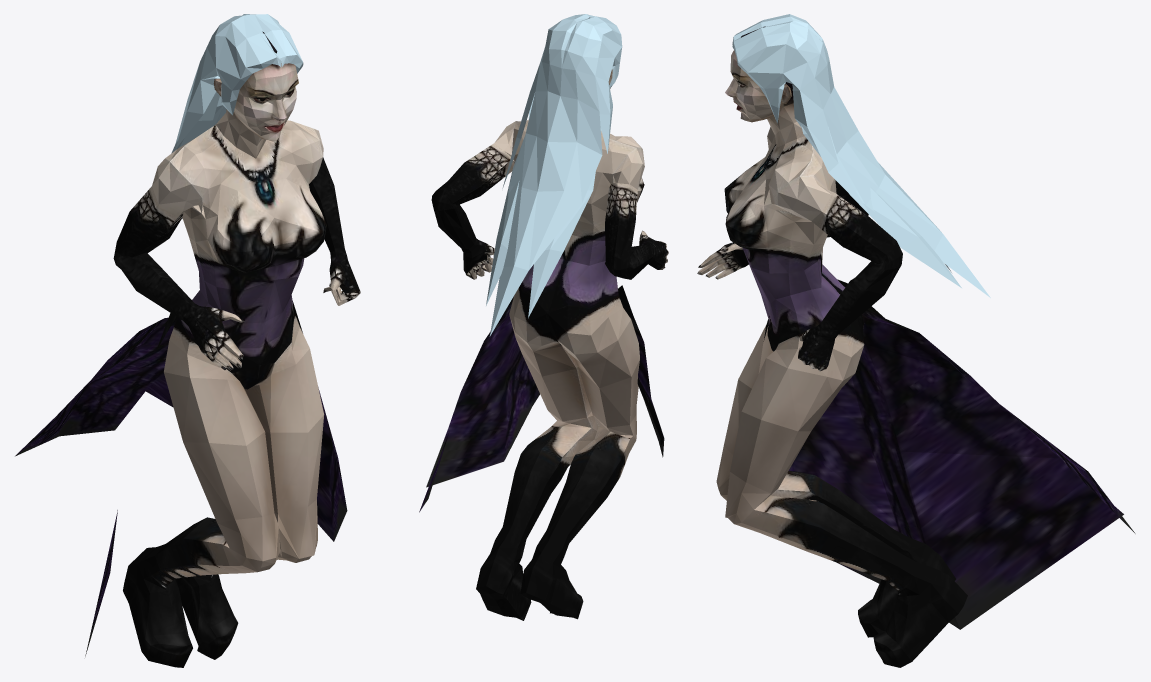
The model's file is running_019.obj.
3 views of the same model, side by side, from view 1: azimuth 30°, elevation 25°; view 2: azimuth 150°, elevation 25°; view 3: azimuth 270°, elevation 25° (orthographic). The views are drawn at different scales.
Visible parts, largest first — view 1: Plane.001_Plane.007, Plane.003_Plane.008, capelli.001_Plane.006; view 2: Plane.001_Plane.007, capelli.001_Plane.006, Plane.003_Plane.008; view 3: Plane.001_Plane.007, Plane.003_Plane.008, capelli.001_Plane.006.
Boxes of the visible parts, x1,y1,x2,y2 form: Plane.001_Plane.007: (113, 31, 360, 667); Plane.003_Plane.008: (15, 301, 347, 656); capelli.001_Plane.006: (171, 14, 303, 218); Plane.001_Plane.007: (431, 17, 668, 620); capelli.001_Plane.006: (486, 14, 622, 336); Plane.003_Plane.008: (419, 285, 664, 512); Plane.001_Plane.007: (697, 26, 967, 667); Plane.003_Plane.008: (763, 279, 1135, 629); capelli.001_Plane.006: (732, 14, 990, 297).
Bounding box in the file's own units: 1.71 × 5.04 × 3.12.
